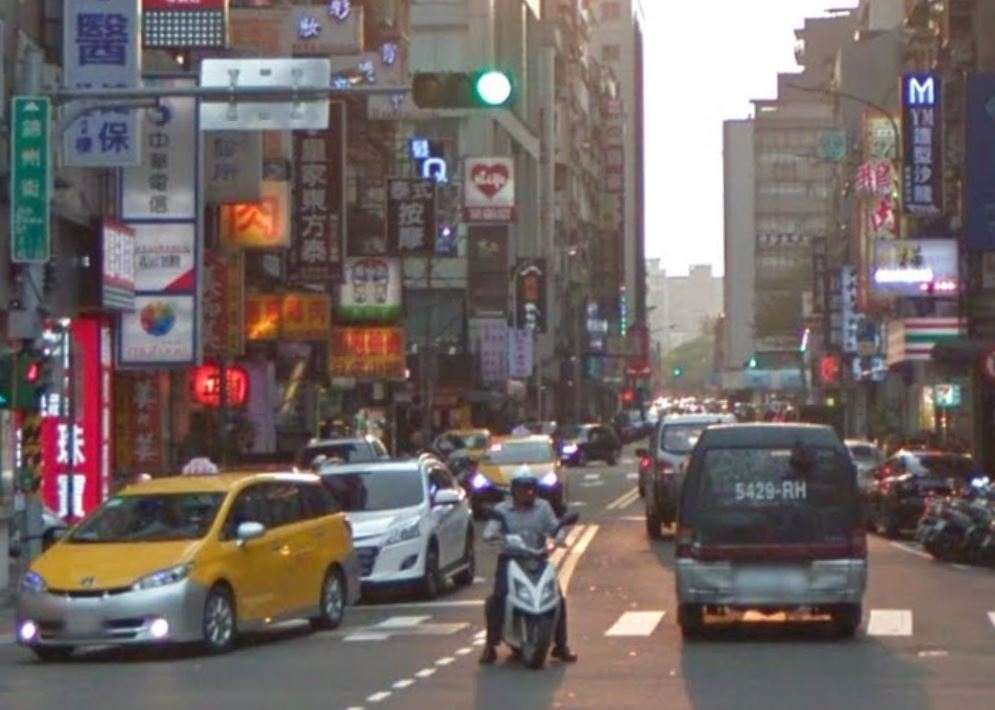Traffic_light_green: (409, 72, 517, 110)
car: (19, 453, 368, 650), (669, 417, 878, 642)
motorcycle: (483, 505, 583, 674)
